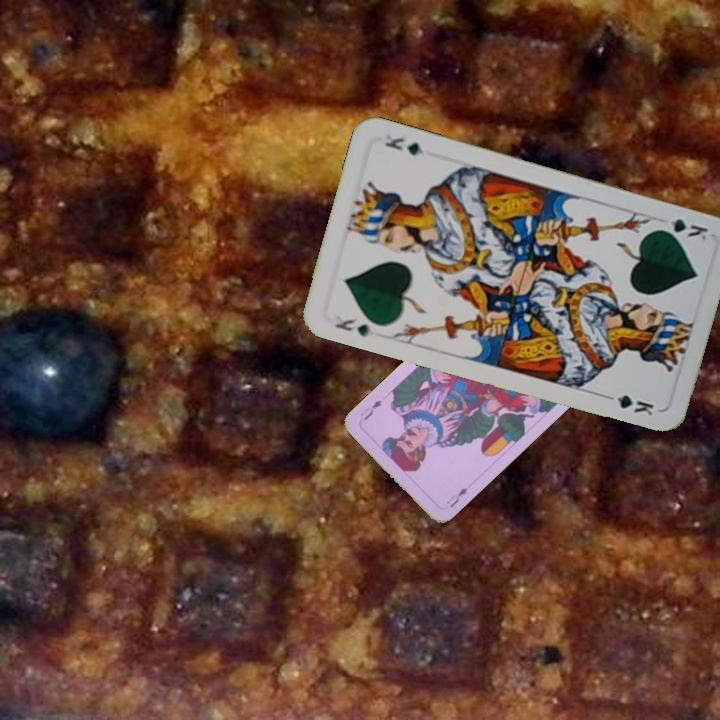EU: (442, 483, 470, 510)
GK: (653, 214, 711, 243), (331, 313, 377, 339)
